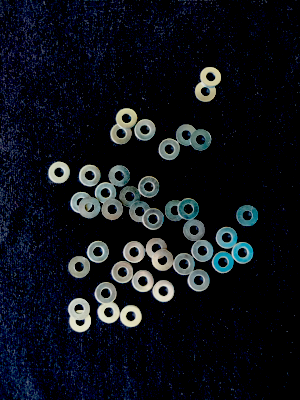circle: (182, 217, 208, 243), (133, 118, 160, 143), (68, 254, 93, 280), (49, 160, 74, 185), (190, 128, 216, 152), (190, 239, 216, 263), (236, 203, 260, 228), (120, 305, 145, 329), (85, 241, 110, 265), (109, 123, 135, 146), (195, 80, 219, 104), (158, 138, 182, 162), (216, 225, 240, 249), (111, 261, 135, 285), (138, 174, 162, 198), (109, 164, 133, 188), (78, 164, 102, 188), (173, 252, 196, 277), (152, 280, 177, 303), (67, 298, 92, 321), (132, 269, 155, 294), (119, 185, 142, 210), (175, 123, 199, 146), (129, 200, 152, 224), (178, 197, 200, 222), (94, 283, 119, 305), (232, 241, 255, 264), (69, 310, 92, 333), (124, 241, 147, 264), (143, 208, 166, 231), (102, 199, 125, 222), (70, 192, 93, 215), (213, 251, 235, 275), (189, 269, 211, 293), (146, 236, 168, 260), (164, 199, 186, 222), (152, 249, 174, 272), (79, 197, 101, 220), (115, 109, 139, 130), (99, 301, 120, 325), (95, 183, 117, 205), (200, 67, 222, 87)
